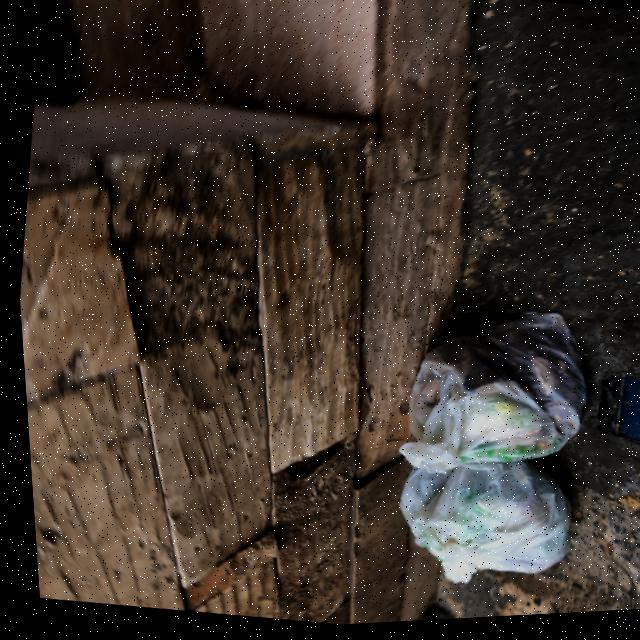Organic Waste -White Bag-: (378, 293, 604, 497), (369, 448, 579, 612)
